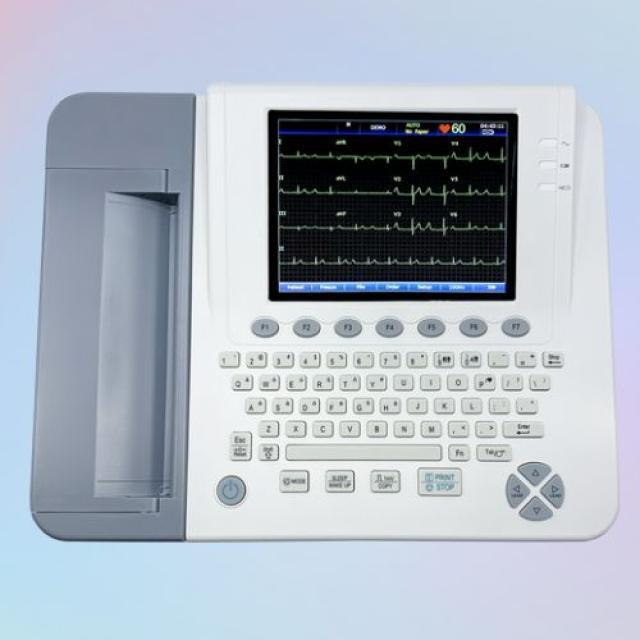Monitor: (30, 82, 620, 543)
